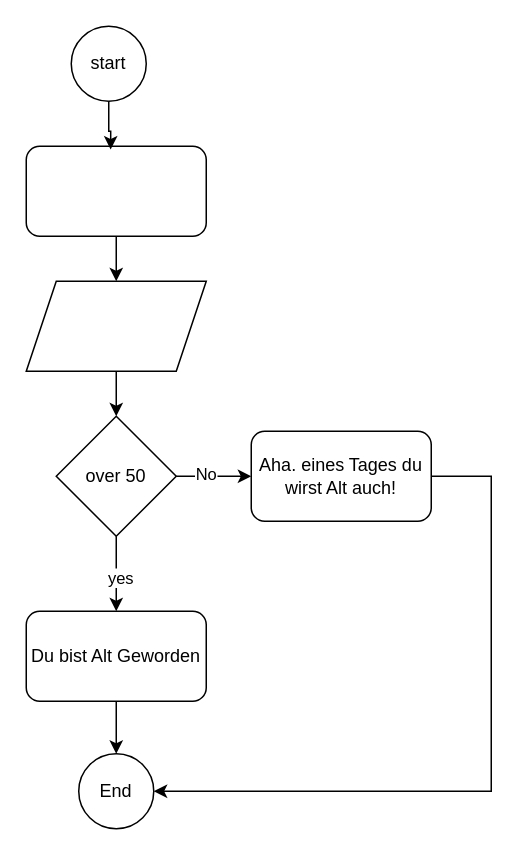
The diagram is 530 pixels wide and 855 high, and some of its shapes have lost their labels. The shapes that lost their labels are listed below. From the top down, each one's centre as x and y in pixels, then its label:
the point at 115,190: print: wie Alt bist DU!
the point at 115,325: input
